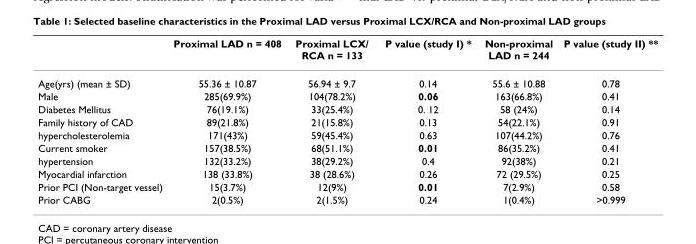table: (37, 36, 657, 205)
table column: (37, 36, 167, 205), (167, 36, 287, 205), (376, 36, 477, 205), (557, 36, 657, 205), (287, 36, 376, 205), (477, 36, 557, 205)
table column header: (37, 36, 657, 68)
table row: (37, 36, 657, 68), (37, 68, 657, 89), (37, 140, 657, 154), (37, 89, 657, 102), (37, 102, 657, 115), (37, 115, 657, 128), (37, 166, 657, 179), (37, 179, 657, 192), (37, 192, 657, 205), (37, 128, 657, 140), (37, 154, 657, 166)
